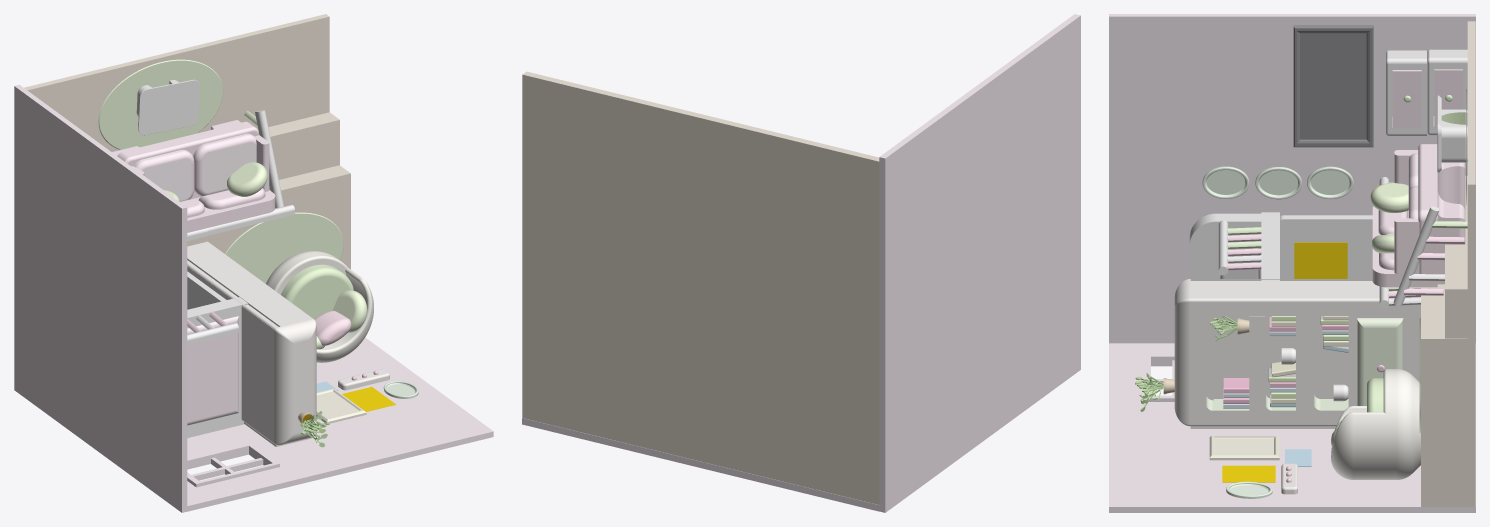
Rendered from Assembly 1.gltf.
The picture shows the model from 3 angles, left to right: view 1: azimuth 30°, elevation 25°; view 2: azimuth 150°, elevation 25°; view 3: azimuth 270°, elevation 25°; orthographic projection. The views are drawn at different scales.
Parts seen in each view (by area): view 1: left, bottom, back wall, Part 5 (×3), shelf, Part 1, mattress, chair, Part 14 (×3), Part 2 (×2), big painting, pillow (+3 smaller); view 2: bottom, left, back wall; view 3: left, shelf, back wall, bottom, Part 13, Part 1, chair, Part 7 (×4), front support, Part 10 (×3), Part 8 (×2), Part 12 (×2) (+8 smaller).
Boxes of the visible parts, box(x1,y1,x2,y2) form: left: box(14, 84, 187, 512); bottom: box(24, 14, 350, 269); back wall: box(187, 337, 493, 511); Part 5 (×3): box(98, 59, 343, 283); shelf: box(187, 241, 316, 446); Part 1: box(112, 120, 275, 232); mattress: box(187, 297, 248, 437); chair: box(266, 251, 373, 362); Part 14 (×3): box(187, 110, 294, 344); Part 2 (×2): box(227, 162, 367, 332); big painting: box(316, 388, 366, 423); pillow: box(314, 310, 351, 345); bottom: box(522, 71, 879, 504); left: box(879, 14, 1080, 512); back wall: box(522, 418, 879, 511); left: box(1109, 14, 1475, 343); shelf: box(1174, 279, 1420, 428); back wall: box(1109, 343, 1475, 512); bottom: box(1421, 21, 1475, 506); Part 13: box(1293, 25, 1373, 147); Part 1: box(1372, 144, 1465, 287); chair: box(1331, 369, 1420, 479); Part 7 (×4): box(1202, 166, 1353, 498); front support: box(1280, 215, 1372, 278); Part 10 (×3): box(1281, 49, 1467, 494); Part 8 (×2): box(1222, 242, 1347, 482); Part 12 (×2): box(1392, 69, 1462, 128).
Bounding box in the file's own units: 0.1475 × 0.1375 × 0.1375.
